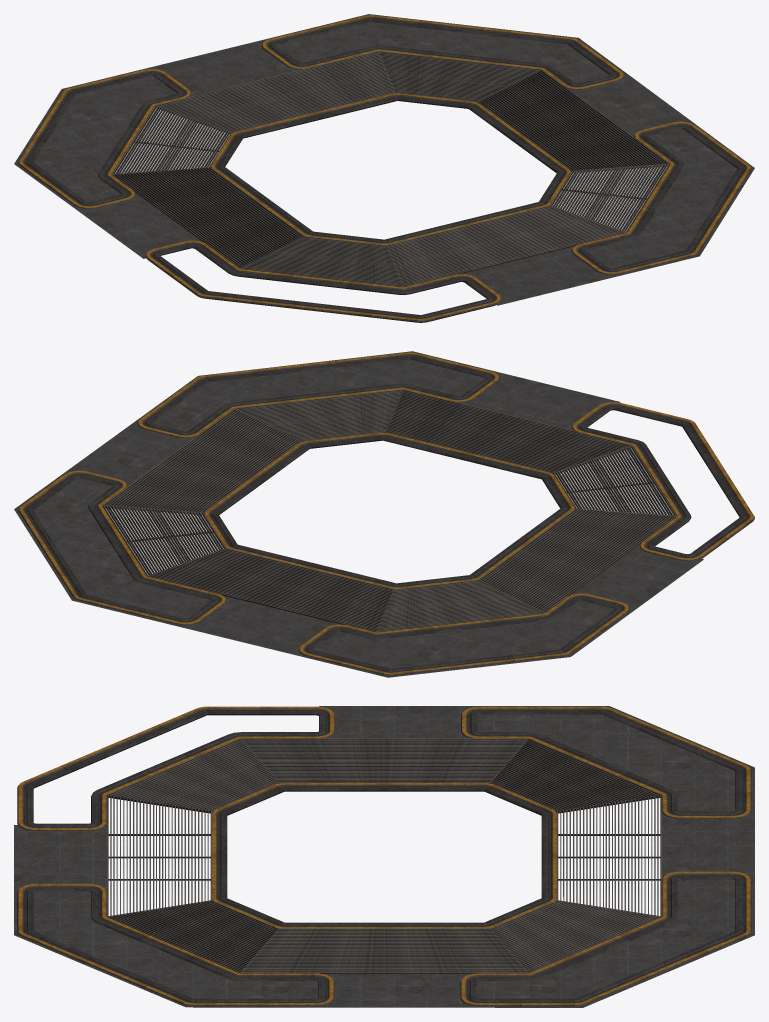
Rendered from 03_02_containment_room_floor02.dae.
3 renders of one model, top to bottom at view 1: azimuth 30°, elevation 25°; view 2: azimuth 150°, elevation 25°; view 3: azimuth 270°, elevation 25°, orthographic. The views are drawn at different scales.
Visible parts, largest first — view 1: grating, tiles, welder; view 2: grating, tiles, welder; view 3: grating, tiles, welder.
Boxes of the visible parts, x1,y1,x2,y2 form: grating: (111, 51, 670, 287); tiles: (14, 14, 754, 305); welder: (18, 15, 751, 322); grating: (102, 389, 676, 632); tiles: (14, 351, 703, 677); welder: (18, 352, 754, 675); grating: (107, 738, 661, 973); tiles: (14, 706, 754, 1007); welder: (17, 706, 751, 1007).
Size of the model in its own units: 13.5 by 0.0646 by 14.
